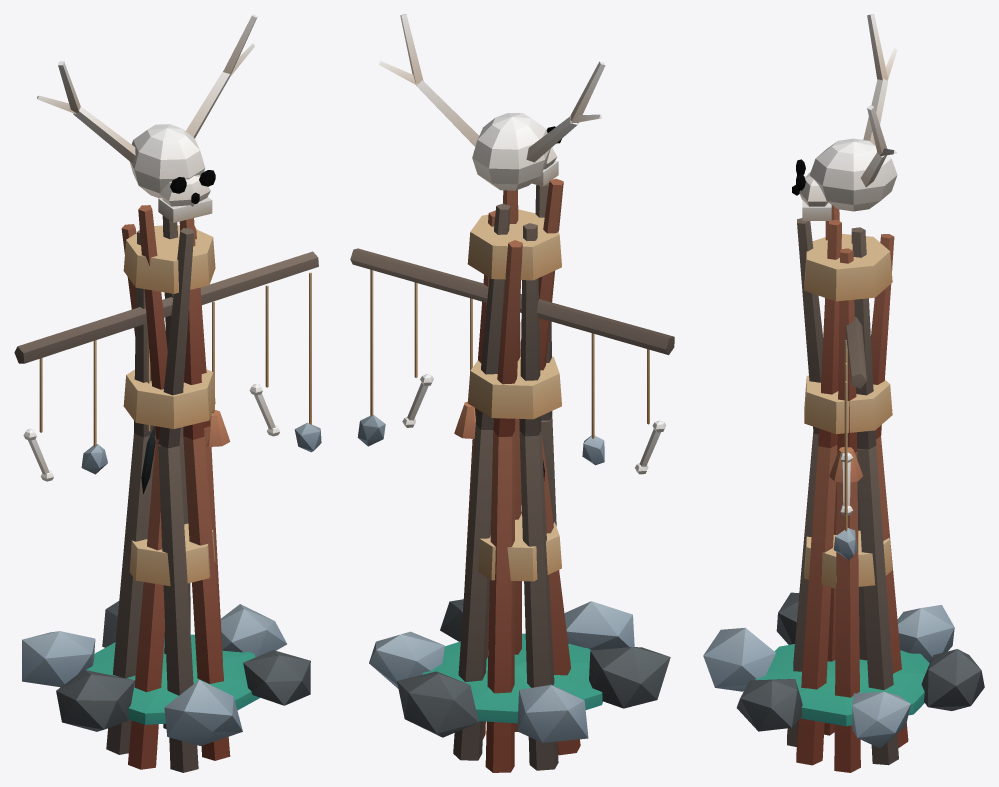
The model's file is bog_totem.glb.
3 renders of one model, left to right at view 1: azimuth 30°, elevation 25°; view 2: azimuth 150°, elevation 25°; view 3: azimuth 270°, elevation 25°, orthographic. The views are drawn at different scales.
Visible parts, largest first — view 1: bog_totem; view 2: bog_totem; view 3: bog_totem.
Boxes of the visible parts, x1,y1,x2,y2 form: bog_totem: [14, 14, 321, 772]; bog_totem: [350, 14, 674, 772]; bog_totem: [703, 14, 984, 772].
Size of the model in its own units: 1.4 by 3.11 by 1.15.
1 material, 1 textured.
